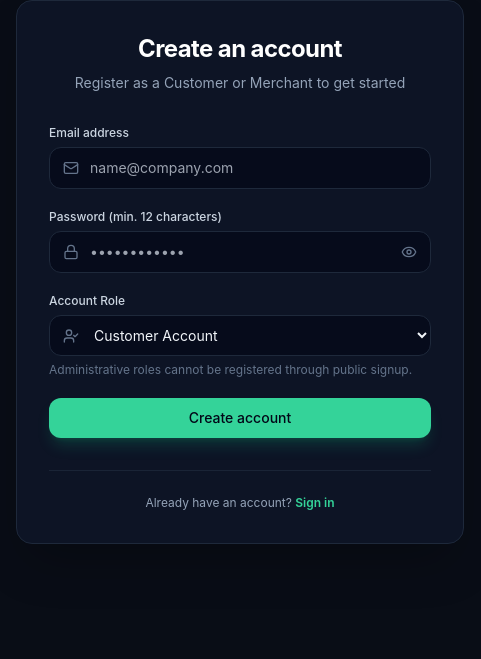
Test: RegisterForm Component › displays EMAIL_ALREADY_EXISTS error from backend properly
Type "existing@example.com" into the field labelled "Email address" at {"x": 240, "y": 168}, box [49,147,431,189]
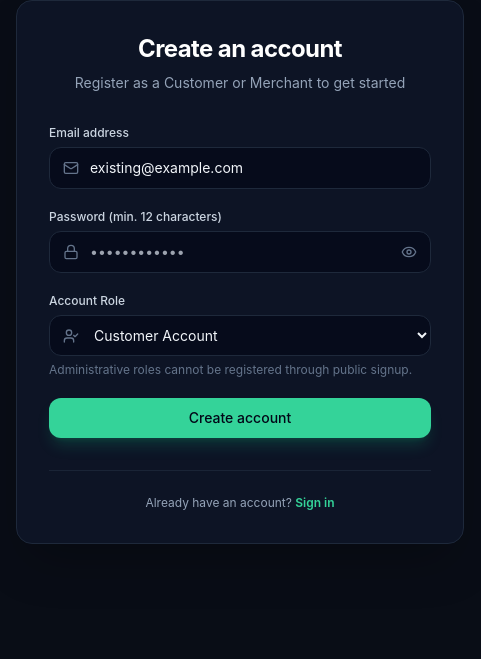
Type "ValidPassword123456!" into the password field labelled "Password (min. 12 characters)" at {"x": 240, "y": 252}, box [49,231,431,273]
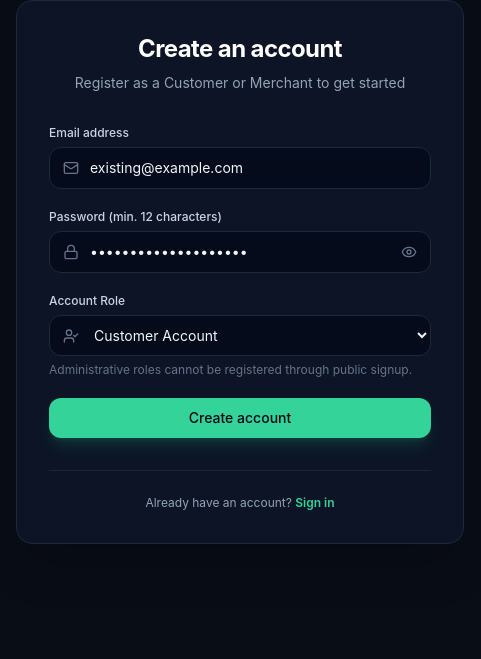
Click the button "Create account" at {"x": 240, "y": 418}, box [49,398,431,438]
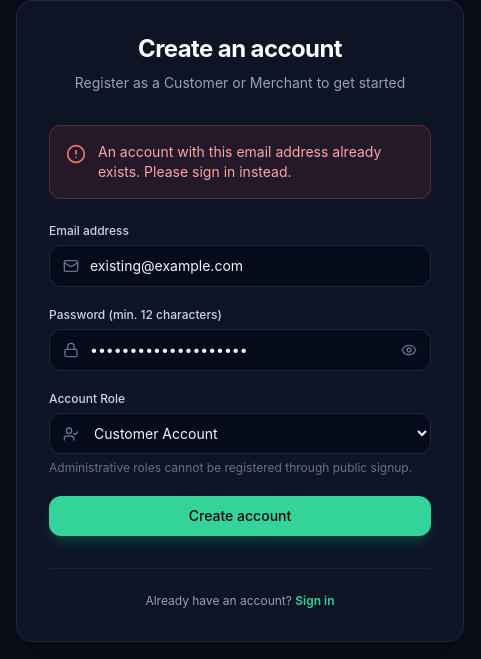
Now the message "An account with this email address already exists. Please sign in instead." is shown, box [49,125,431,199]
Now the text "already exists" is shown, box [98,143,381,180]
